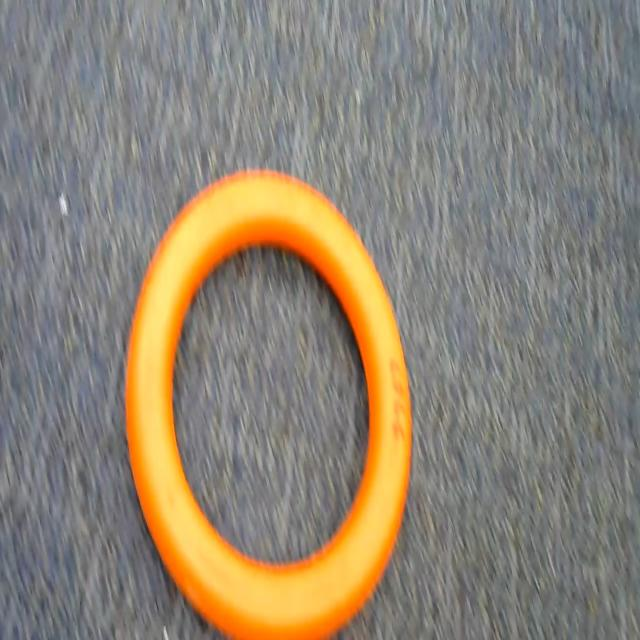note: (126, 145, 418, 640)
